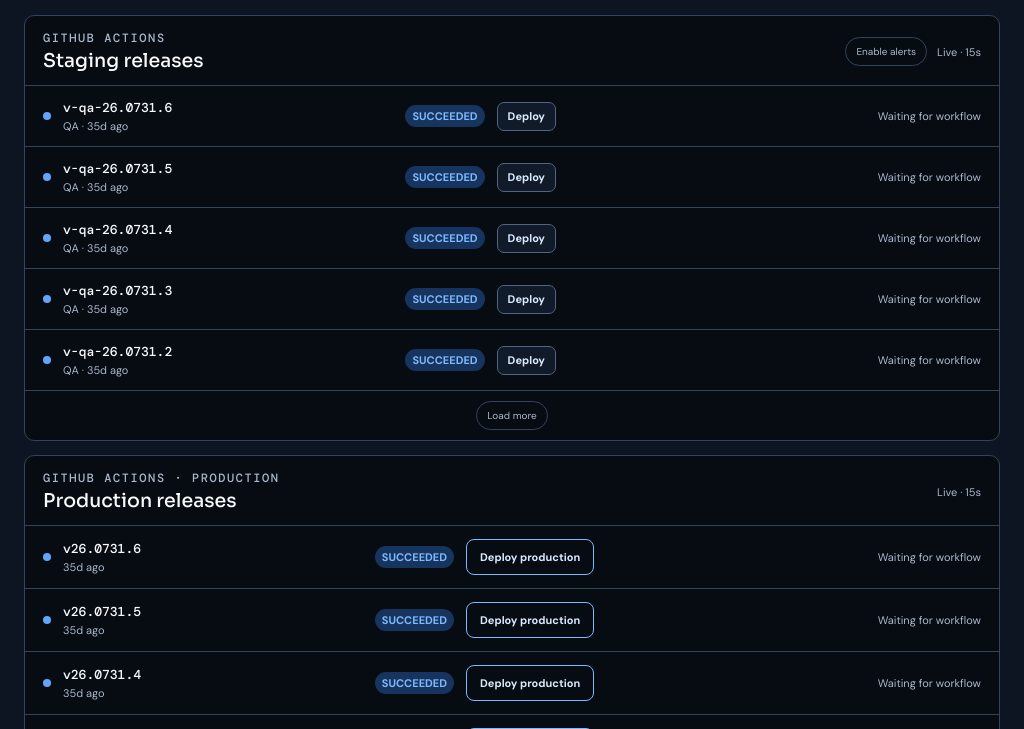
it: ServiceOperations › loads more staging and production releases on demand
This screenshot has width=1024, height=729.
Expected: the link "v-qa-26.0731.6" is shown, [63, 99, 172, 116]
Click the button "Load more".
click(512, 416)  # box [476, 401, 548, 430]
(page scrolled)
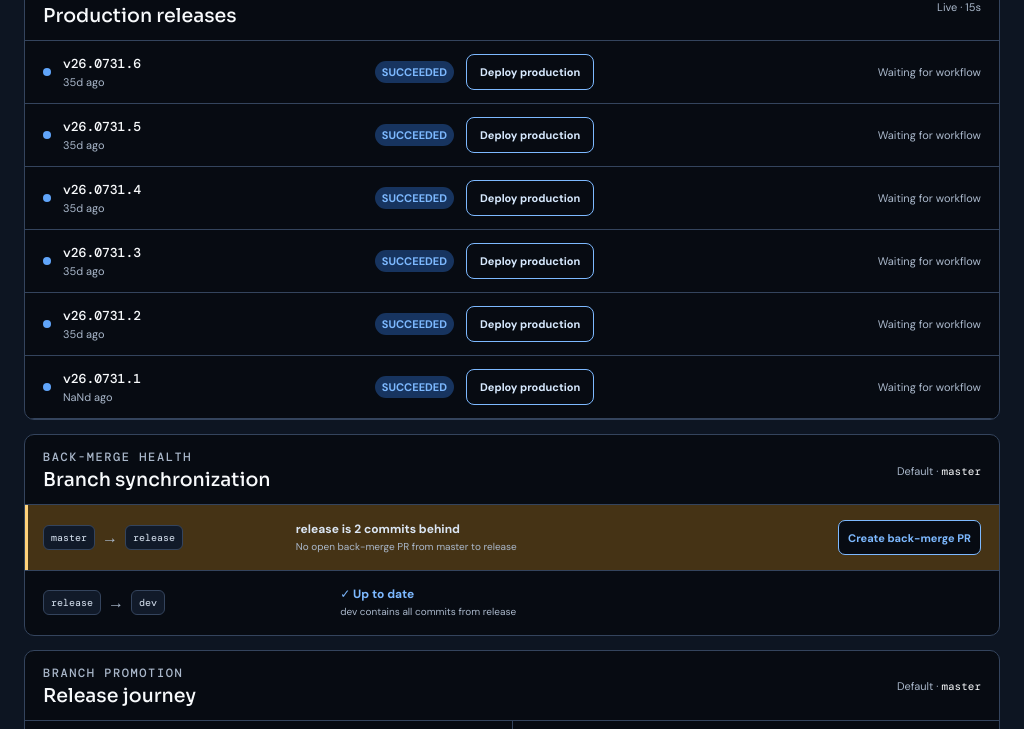
Result: the link "v26.0731.1" is shown at [63, 370, 141, 387]
Result: the button "Load more" is gone
